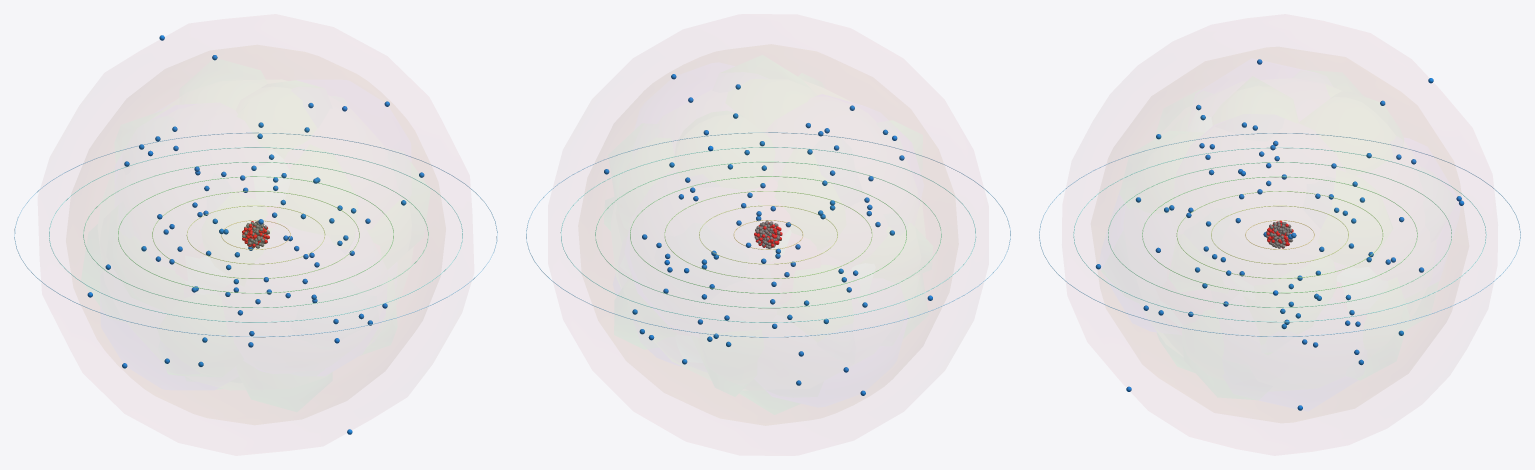
The picture shows the model from 3 angles, left to right: view 1: azimuth 30°, elevation 25°; view 2: azimuth 150°, elevation 25°; view 3: azimuth 270°, elevation 25°; orthographic projection.
Visible parts, largest first — view 1: Nivel_n7, Nivel_n6, Nivel_n5, Nivel_n4, Nivel_n3; view 2: Nivel_n7, Nivel_n6, Nivel_n5, Nivel_n4, Nivel_n3; view 3: Nivel_n7, Nivel_n6, Nivel_n5, Nivel_n4, Nivel_n3.
Part boxes in pixels (box(x1,y1,x2,y2)): Nivel_n7: box(14, 132, 497, 337); Nivel_n6: box(49, 147, 462, 322); Nivel_n5: box(83, 162, 428, 307); Nivel_n4: box(118, 176, 393, 293); Nivel_n3: box(152, 191, 359, 278); Nivel_n7: box(526, 132, 1010, 337); Nivel_n6: box(560, 147, 976, 322); Nivel_n5: box(595, 161, 941, 308); Nivel_n4: box(630, 176, 906, 293); Nivel_n3: box(664, 191, 872, 278); Nivel_n7: box(1039, 133, 1520, 336); Nivel_n6: box(1073, 147, 1486, 322); Nivel_n5: box(1108, 162, 1451, 307); Nivel_n4: box(1142, 176, 1417, 293); Nivel_n3: box(1176, 191, 1383, 278).
Bounding box in the file's own units: 2.1 × 1.93 × 2.1.
